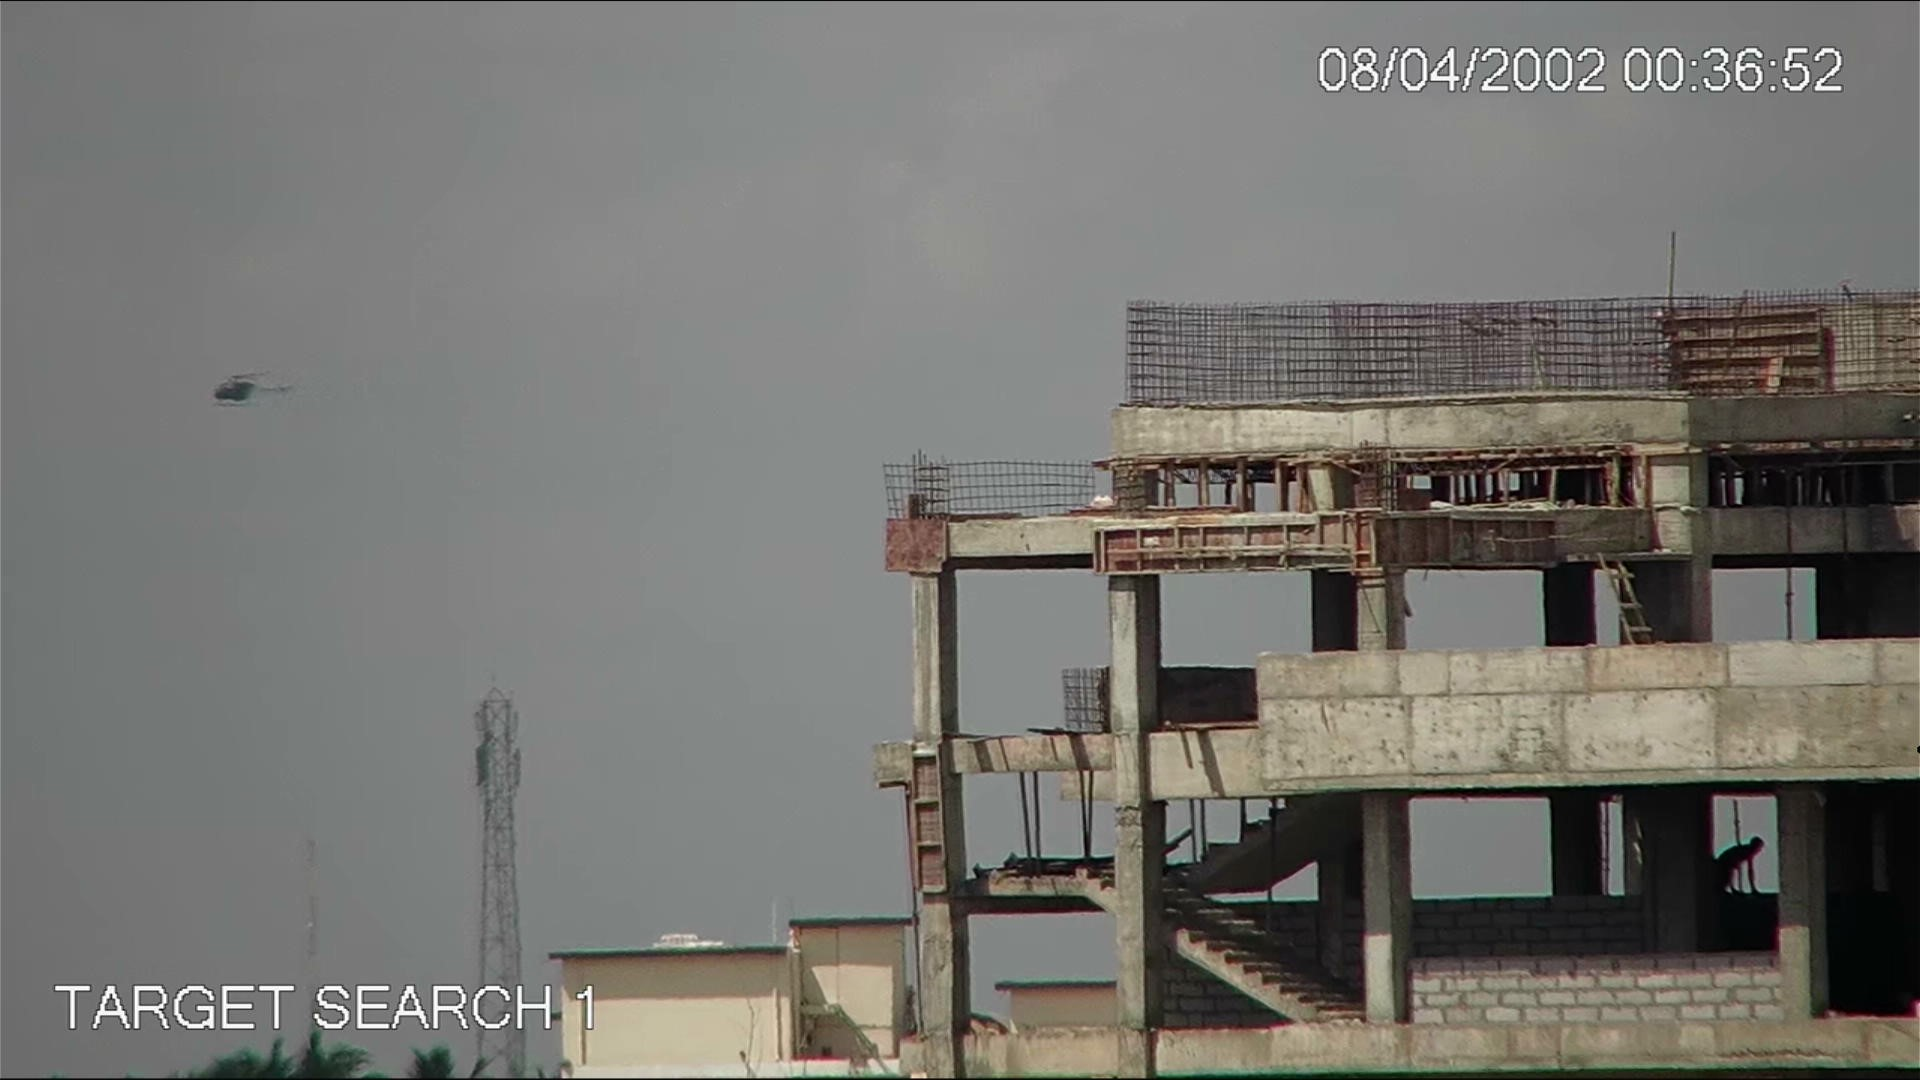SU_30: (208, 367, 297, 415)
